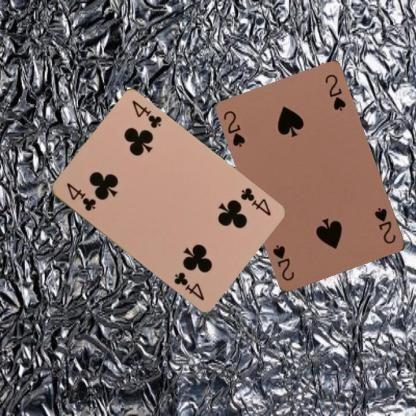2s: (372, 205, 398, 246), (220, 108, 246, 149)
4c: (238, 185, 272, 218), (63, 180, 97, 212)
